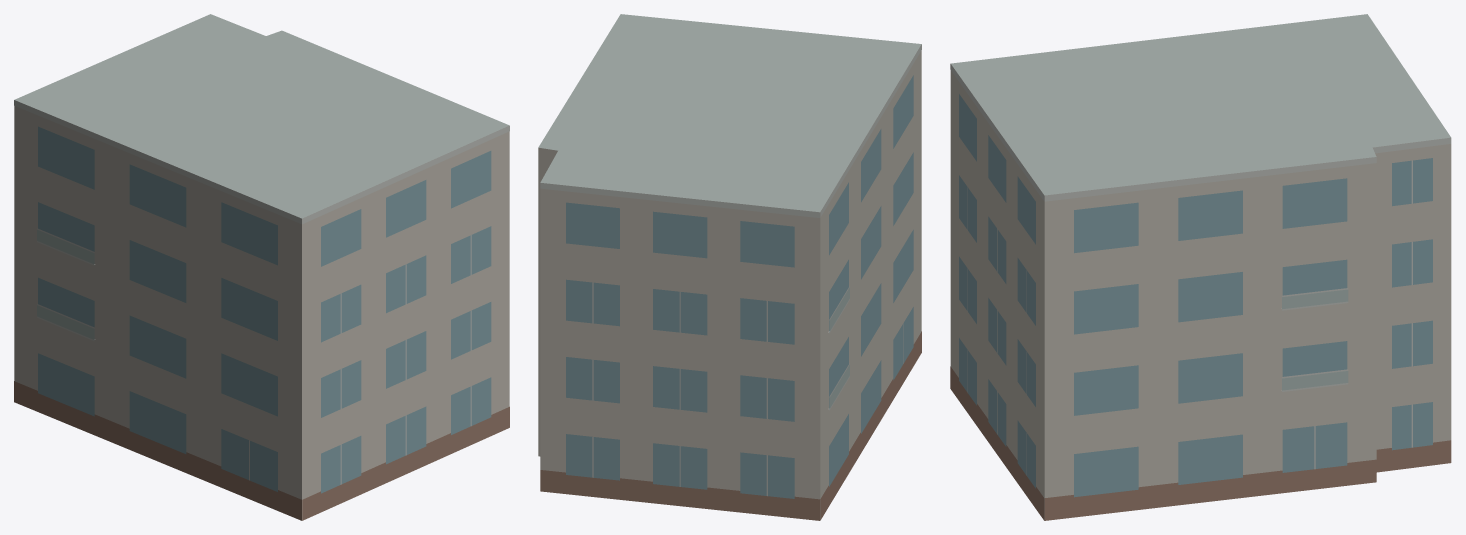
The model's file is survey-upis-32907765.glb.
The picture shows the model from 3 angles, left to right: view 1: azimuth 30°, elevation 25°; view 2: azimuth 150°, elevation 25°; view 3: azimuth 270°, elevation 25°; orthographic projection. The views are drawn at different scales.
Parts seen in each view (by area): view 1: survey-upis-32907765.tmp; view 2: survey-upis-32907765.tmp; view 3: survey-upis-32907765.tmp.
Boxes of the visible parts, x1,y1,x2,y2 form: survey-upis-32907765.tmp: [14, 14, 509, 520]; survey-upis-32907765.tmp: [538, 14, 921, 520]; survey-upis-32907765.tmp: [950, 14, 1451, 520].
Bounding box in the file's own units: 15.32 × 12.8 × 17.86.
